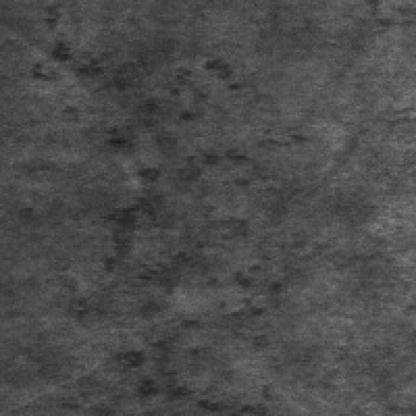rolled-in_scale: (77, 146, 273, 408), (31, 21, 258, 239)
